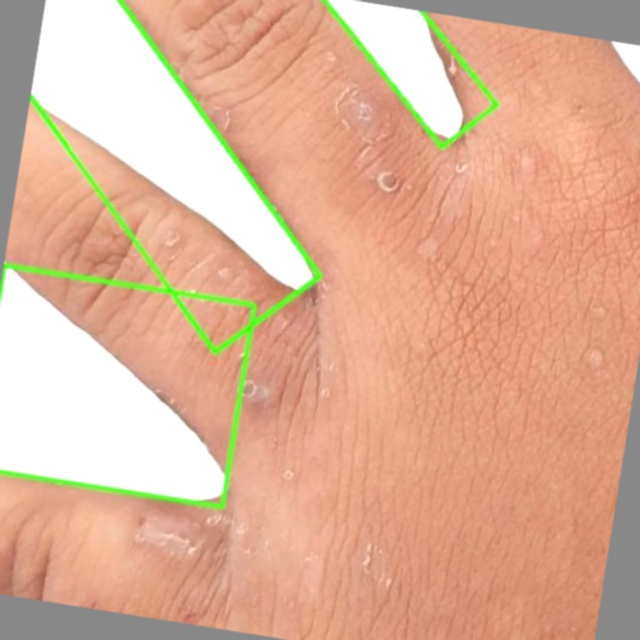Scabies: (30, 0, 321, 352), (0, 265, 254, 506), (325, 0, 496, 148)
